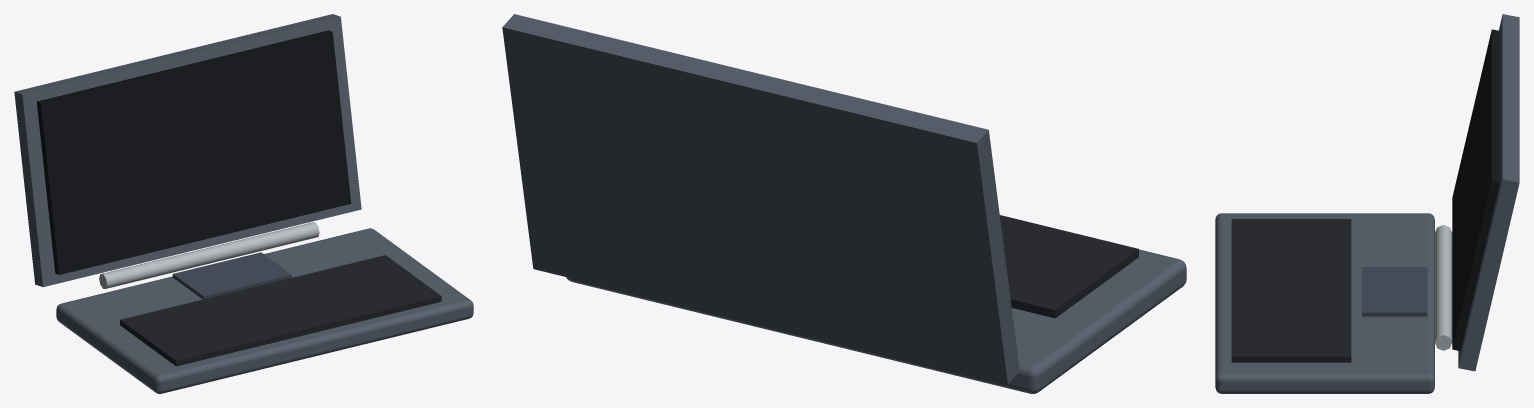
The model's file is laptop-lite.glb.
3 views of the same model, side by side, from view 1: azimuth 30°, elevation 25°; view 2: azimuth 150°, elevation 25°; view 3: azimuth 270°, elevation 25° (orthographic). The views are drawn at different scales.
Parts seen in each view (by area): view 1: material-3-screen, material-0-body, material-4-grating, material-1-metal, material-2-trim; view 2: material-0-body, material-4-grating; view 3: material-0-body, material-4-grating, material-3-screen, material-2-trim, material-1-metal.
Part boxes in pixels (x1=…): material-3-screen: x1=36, y1=30, x2=351, y2=274; material-0-body: x1=14, y1=14, x2=473, y2=393; material-4-grating: x1=120, y1=255, x2=441, y2=366; material-1-metal: x1=99, y1=222, x2=319, y2=288; material-2-trim: x1=172, y1=252, x2=291, y2=299; material-0-body: x1=502, y1=14, x2=1186, y2=393; material-4-grating: x1=999, y1=215, x2=1138, y2=318; material-0-body: x1=1215, y1=14, x2=1519, y2=393; material-4-grating: x1=1231, y1=219, x2=1351, y2=362; material-3-screen: x1=1452, y1=29, x2=1500, y2=350; material-2-trim: x1=1362, y1=267, x2=1427, y2=316; material-1-metal: x1=1435, y1=225, x2=1452, y2=350.
Size of the model in its own units: 0.36 by 0.22 by 0.28.
